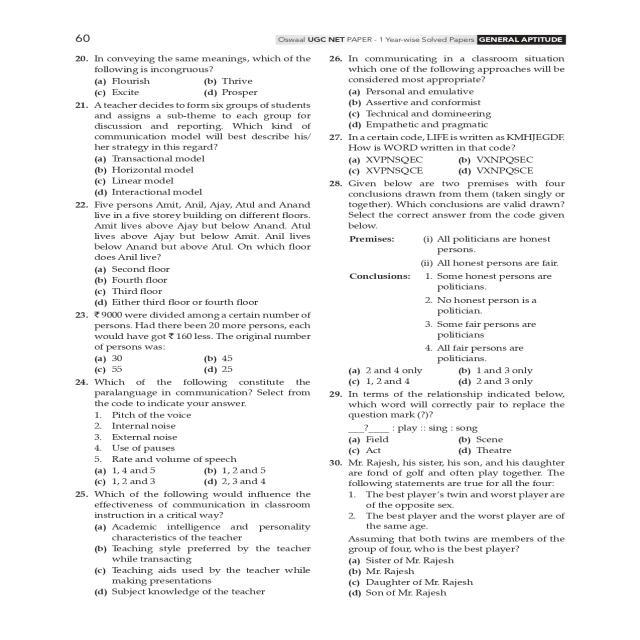Answer_Block: (65, 521, 325, 603), (334, 555, 594, 606), (65, 152, 325, 201), (65, 263, 325, 309), (334, 86, 594, 132), (334, 426, 594, 457), (65, 74, 325, 102), (65, 460, 325, 488), (334, 359, 594, 387), (334, 154, 594, 177), (65, 355, 325, 377)
Question_Answer_Block: (334, 179, 594, 388), (334, 458, 594, 606), (65, 484, 325, 602), (65, 376, 325, 488), (65, 201, 325, 309), (65, 99, 325, 201), (334, 54, 594, 132), (334, 386, 594, 457), (65, 308, 325, 377), (65, 51, 325, 102), (334, 134, 594, 177)
Question_Block: (334, 179, 594, 359), (334, 458, 594, 556), (65, 376, 325, 462), (65, 201, 325, 262), (65, 100, 325, 154), (65, 309, 325, 353), (334, 386, 594, 427), (65, 484, 325, 520), (334, 54, 594, 85), (65, 52, 325, 74), (334, 134, 594, 153)
Question_Paper_Area: (65, 51, 325, 615), (333, 51, 593, 615)
